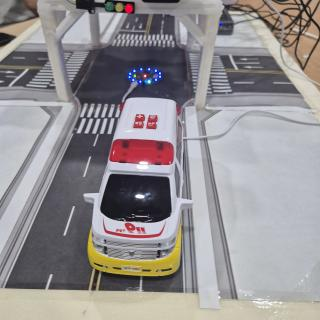Ambulance: (84, 98, 193, 277)
